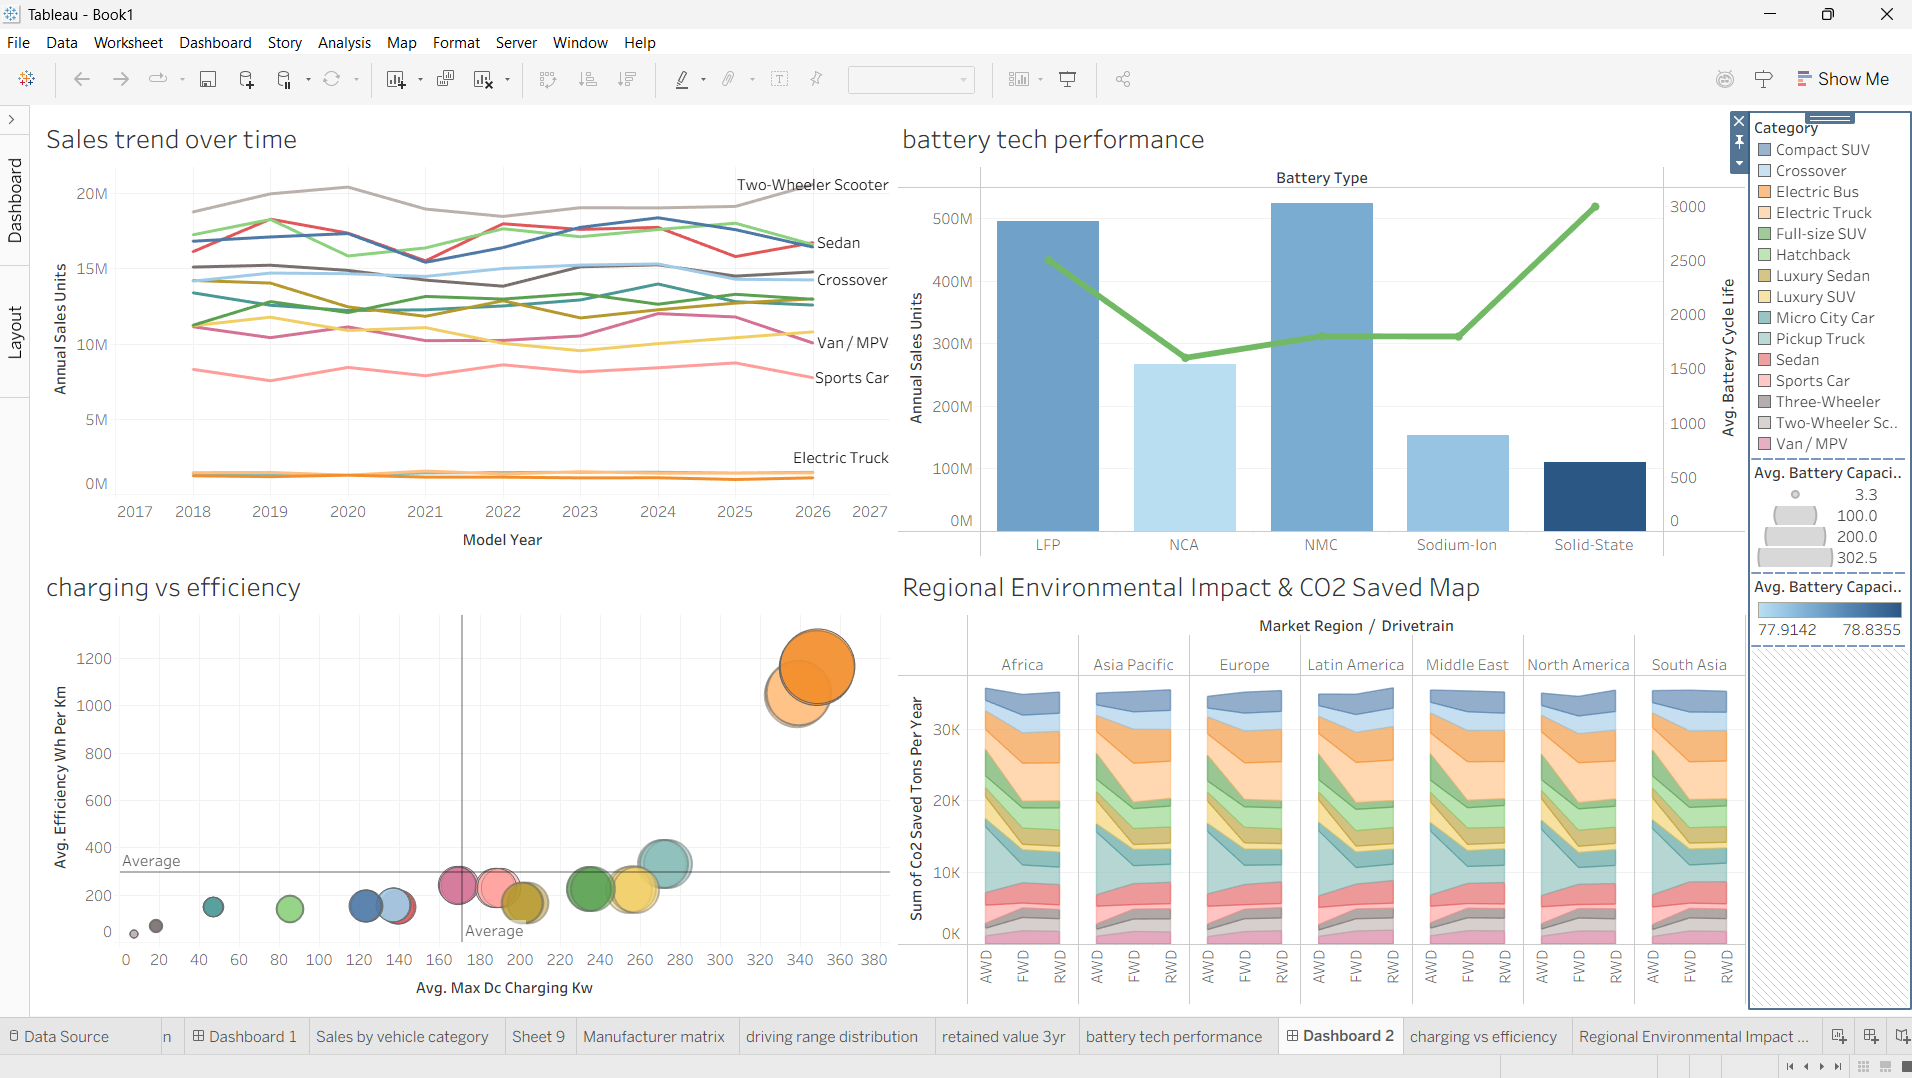

This screenshot's page, from the dashboard's own definition file:
{"tool":"tableau","page":{"name":"Dashboard 2","canvas":[1000,1000],"units":"permille","ordinal":1},"visuals":[{"type":"worksheet","title":"Sales trend over time","mark":"Automatic","rows":["annual_sales_units"],"cols":["model_year"],"box":[4.2,8.8,453.4,491.2]},{"type":"worksheet","title":"battery tech performance","mark":"Bar","rows":["annual_sales_units","battery_cycle_life"],"cols":["battery_type"],"box":[457.6,8.8,453.4,491.2]},{"type":"legend","title":"charging vs efficiency","param":"[federated.05ferdy11ah9fs1fugvlk0oqurv5].[none:category:nk]","box":[911,8.8,84.8,378.7]},{"type":"legend","title":"charging vs efficiency","param":"[federated.05ferdy11ah9fs1fugvlk0oqurv5].[avg:battery_capacity_kwh:qk]","box":[911,387.5,84.8,125.1]},{"type":"worksheet","title":"charging vs efficiency","mark":"Circle","rows":["efficiency_wh_per_km"],"cols":["max_dc_charging_kw"],"box":[4.2,500,453.4,491.2]},{"type":"worksheet","title":"Regional Environmental Impact & CO2 Saved Map","mark":"Area","rows":["co2_saved_tons_per_year"],"cols":["market_region","drivetrain"],"box":[457.6,500,453.4,491.2]},{"type":"legend","title":"battery tech performance","param":"[federated.05ferdy11ah9fs1fugvlk0oqurv5].[avg:battery_capacity_kwh:qk]","box":[911,512.6,84.8,80.1]}]}

Visuals, with their boxes on the dashboard's canvas, which has no fixed pixel size, in thousandths of its width and height (x1, y1, x2, y2). These are canvas units, not pixel positions in the 1912x1078 screenshot, which may show the page scaled, cropped or inside an application window:
"Sales trend over time" worksheet: [4,9,458,500]
"battery tech performance" worksheet (Bar marks): [458,9,911,500]
"charging vs efficiency" legend: [911,9,996,388]
"charging vs efficiency" legend: [911,388,996,513]
"charging vs efficiency" worksheet (Circle marks): [4,500,458,991]
"Regional Environmental Impact & CO2 Saved Map" worksheet (Area marks): [458,500,911,991]
"battery tech performance" legend: [911,513,996,593]
